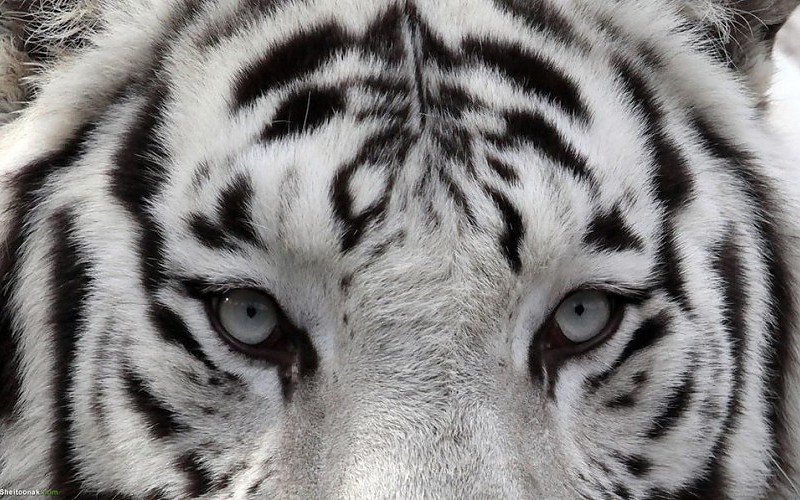Tigrew: (31, 20, 753, 479)
